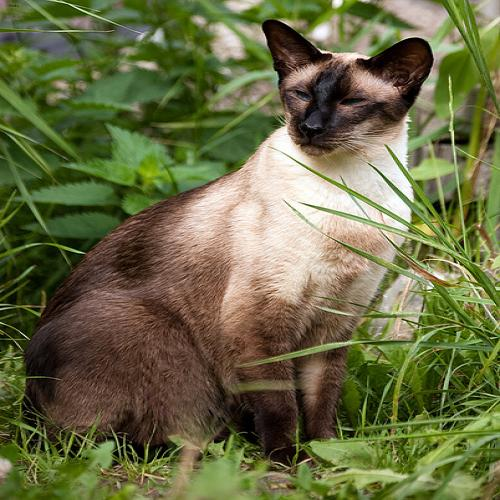siamese: (245, 10, 428, 166)
